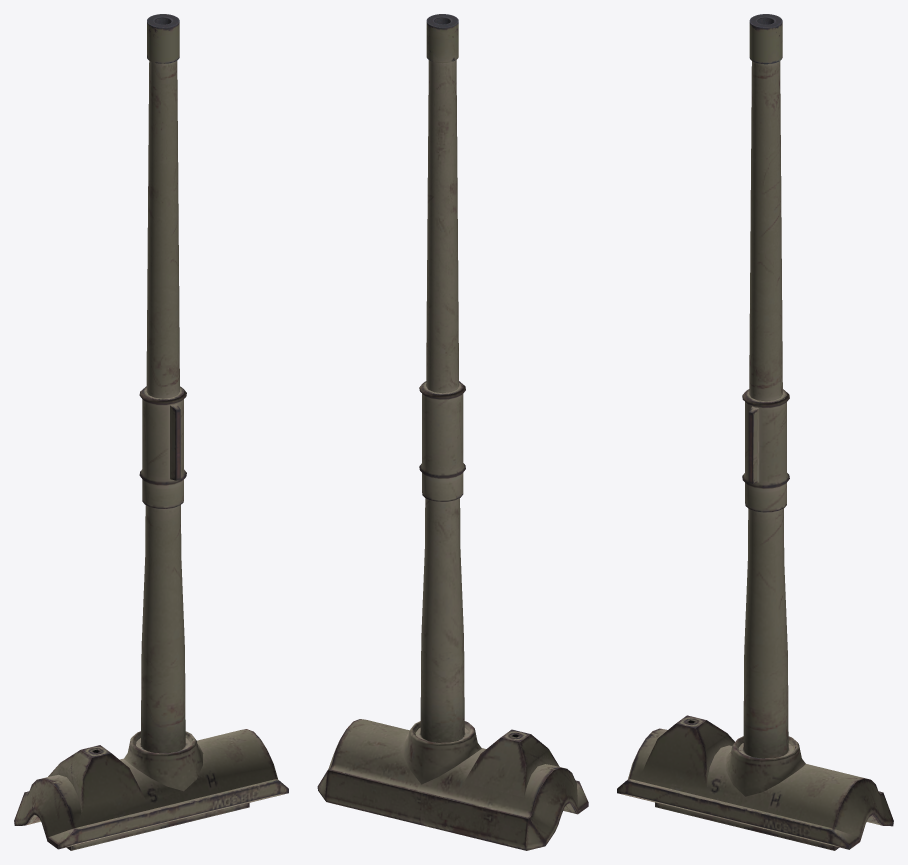
The model's file is Gun_02.glb.
The picture shows the model from 3 angles, left to right: view 1: azimuth 30°, elevation 25°; view 2: azimuth 150°, elevation 25°; view 3: azimuth 330°, elevation 25°; orthographic projection. The views are drawn at different scales.
Visible parts, largest first — view 1: set_0_group_0; view 2: set_0_group_0; view 3: set_0_group_0.
Part boxes in pixels (left/top/right/bottom): set_0_group_0: left=14, top=14, right=288, bottom=850; set_0_group_0: left=317, top=14, right=588, bottom=850; set_0_group_0: left=617, top=14, right=893, bottom=850.
Bounding box in the file's own units: 1.33 × 4.42 × 0.5453.
1 material, 1 textured.
